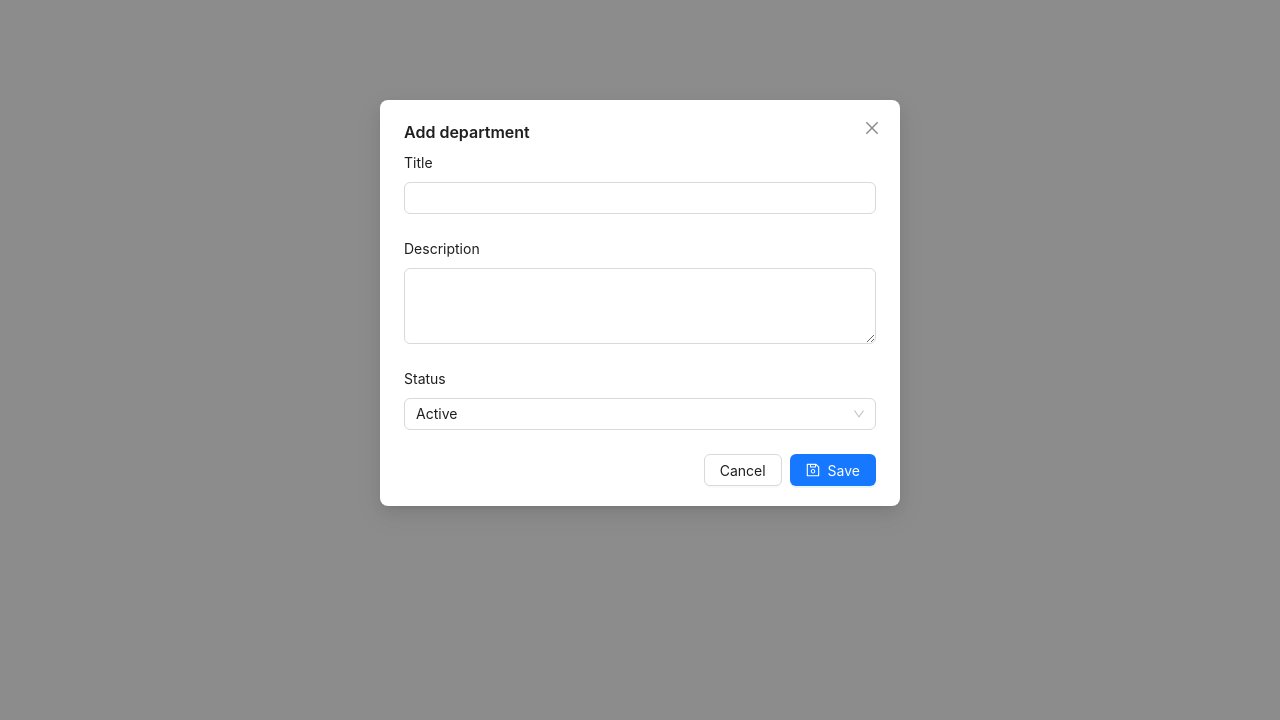
Test: DepartmentFormModal › surfaces a server-side field error on the field, not just the banner
In the field labelled "Title": (640,198) 404,182 -> 876,214, type "Engineering"
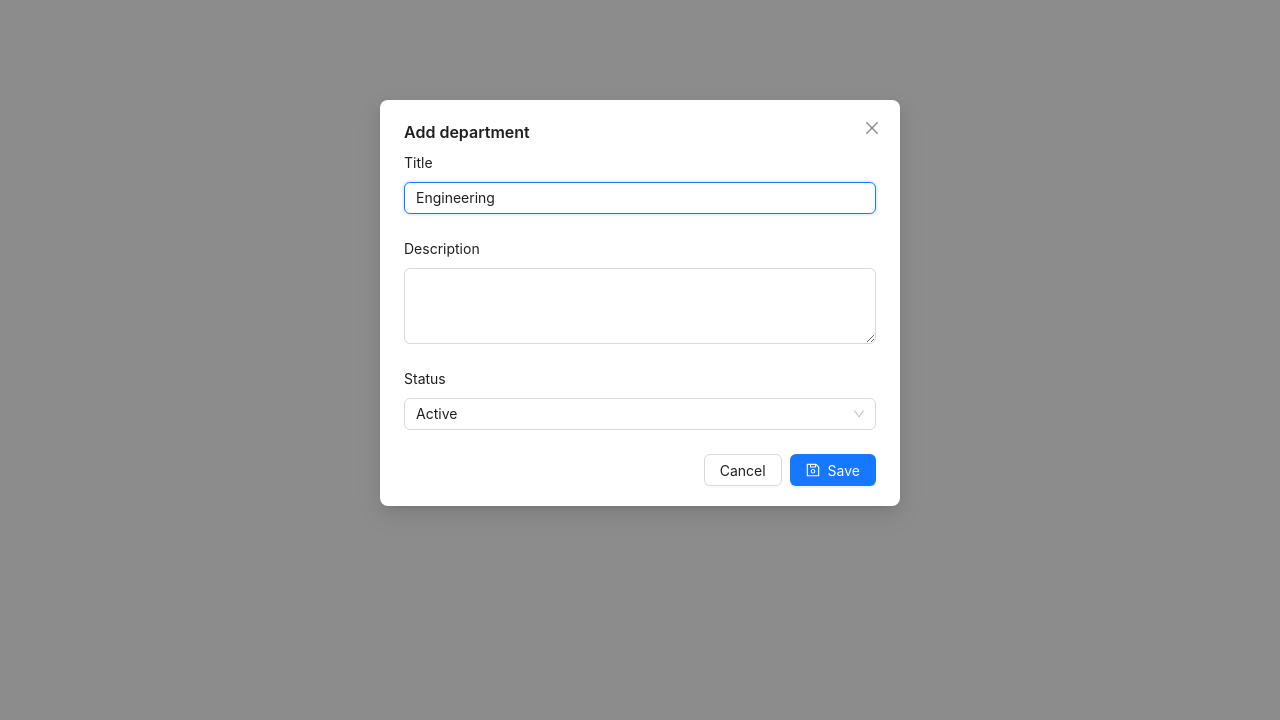
In the text box labelled "Description": (640,306) 404,268 -> 876,344, type "Builds the product"
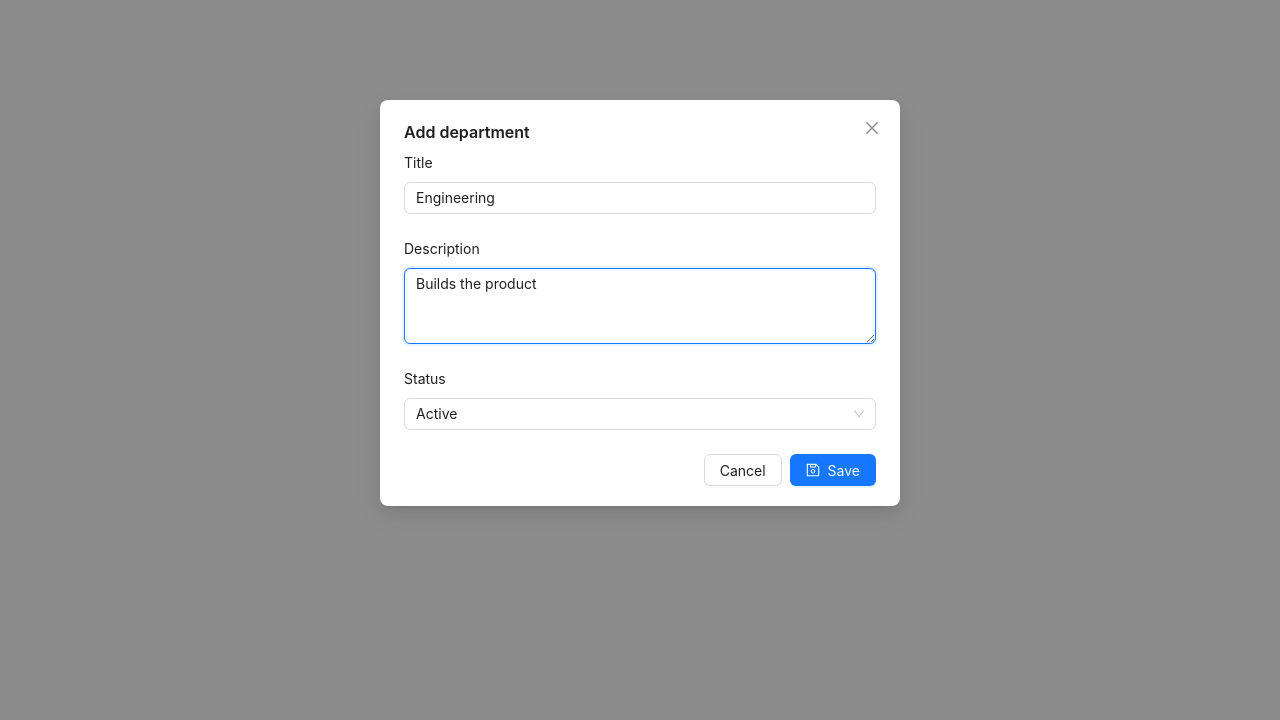
Click the button "Save": (833,470) 790,454 -> 876,486
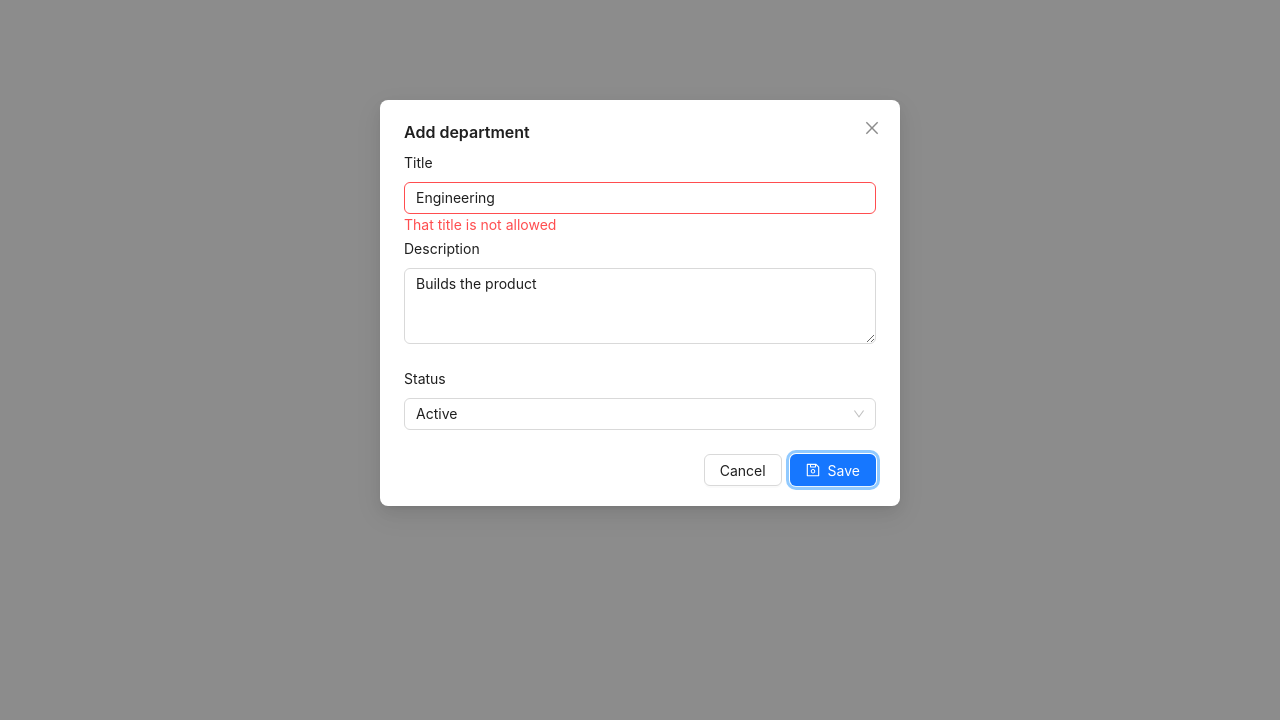
expect the text "That title is not allowed" is shown: met, box 404,216 -> 556,233
